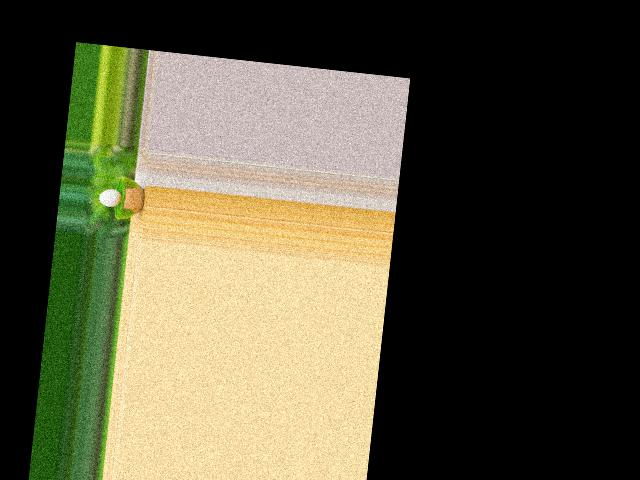egg: (98, 187, 122, 207)
